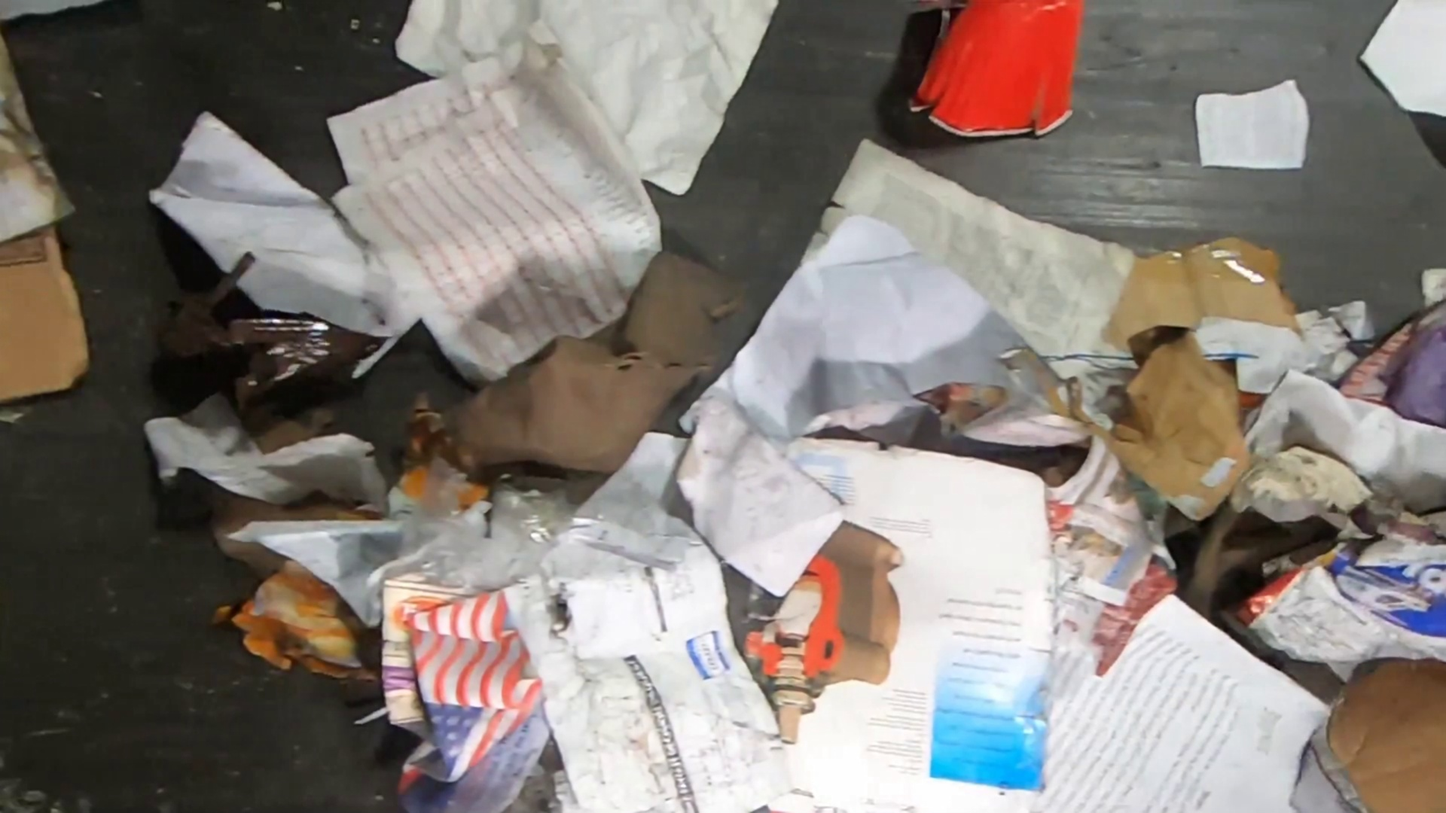cardboard: (1216, 444, 1446, 684), (1102, 234, 1300, 357), (1325, 657, 1446, 813), (0, 219, 91, 406)
plastic: (151, 250, 392, 422), (395, 455, 580, 592), (904, 0, 1086, 139)
